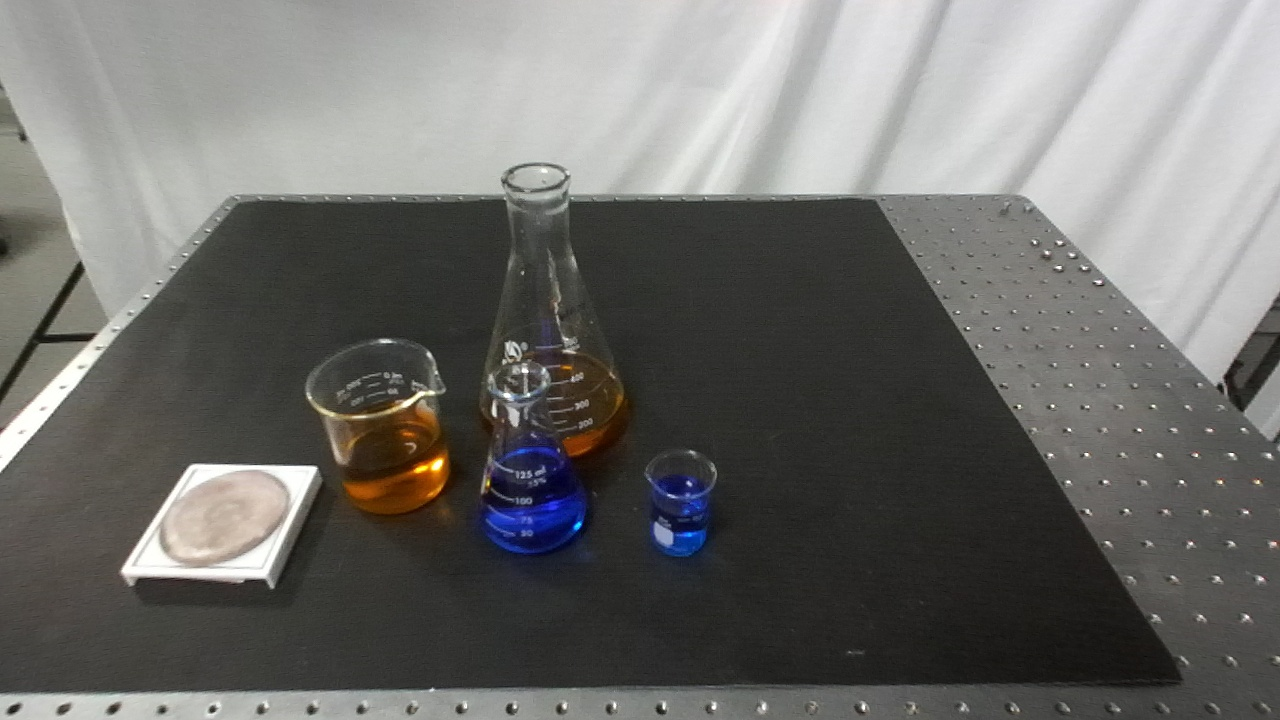glass: (468, 157, 633, 463), (303, 332, 456, 523), (469, 360, 592, 558), (639, 445, 720, 558)
plate: (119, 455, 322, 596)
